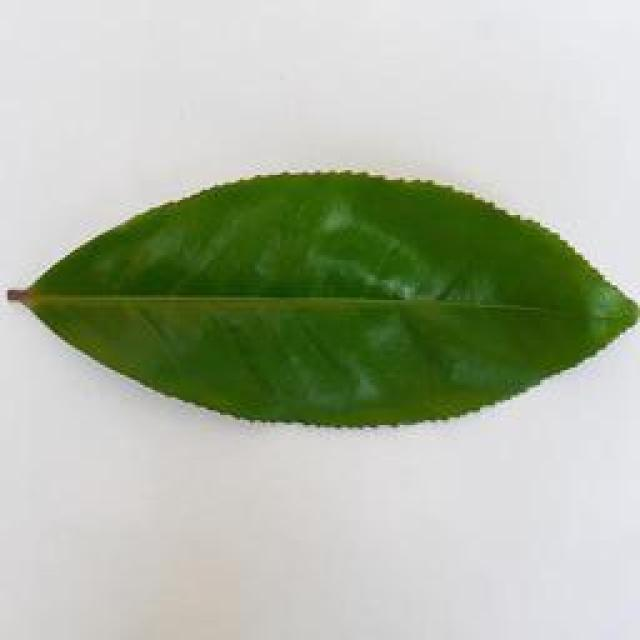Healthy: (0, 166, 640, 429)
